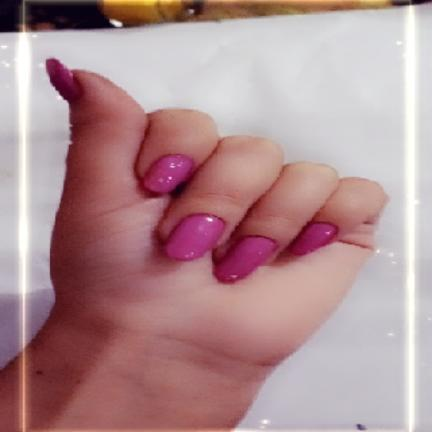Nail: (214, 235, 278, 282), (164, 213, 225, 260), (142, 154, 195, 194), (46, 58, 81, 102), (290, 223, 338, 255)
